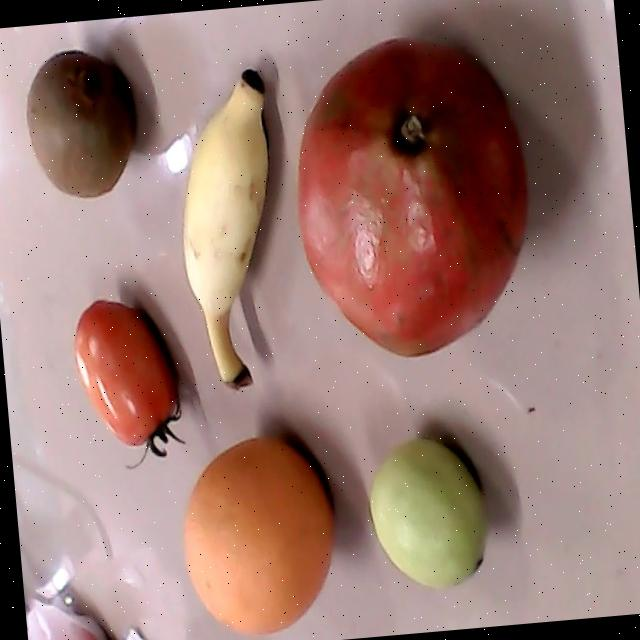kiwi: (24, 49, 130, 197)
lemon: (368, 434, 486, 588)
orange: (182, 433, 333, 634)
pomegranate: (296, 37, 527, 359)
tomato: (72, 299, 184, 469)
